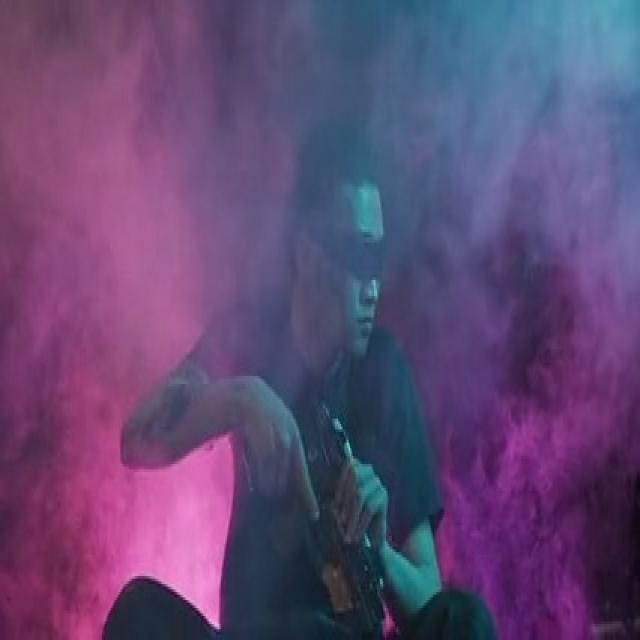Gun_Holder: (261, 391, 401, 640)
Person: (108, 0, 494, 640)
